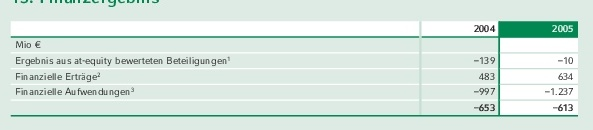table: (0, 0, 593, 130)
